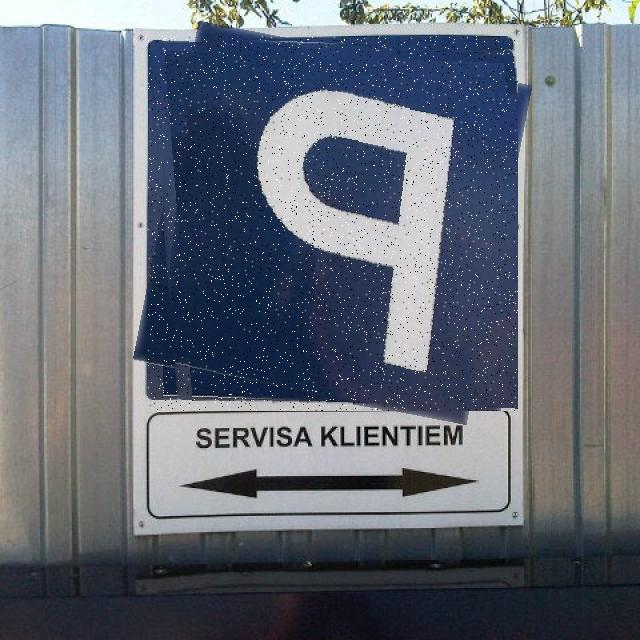parking: (148, 36, 518, 411)
